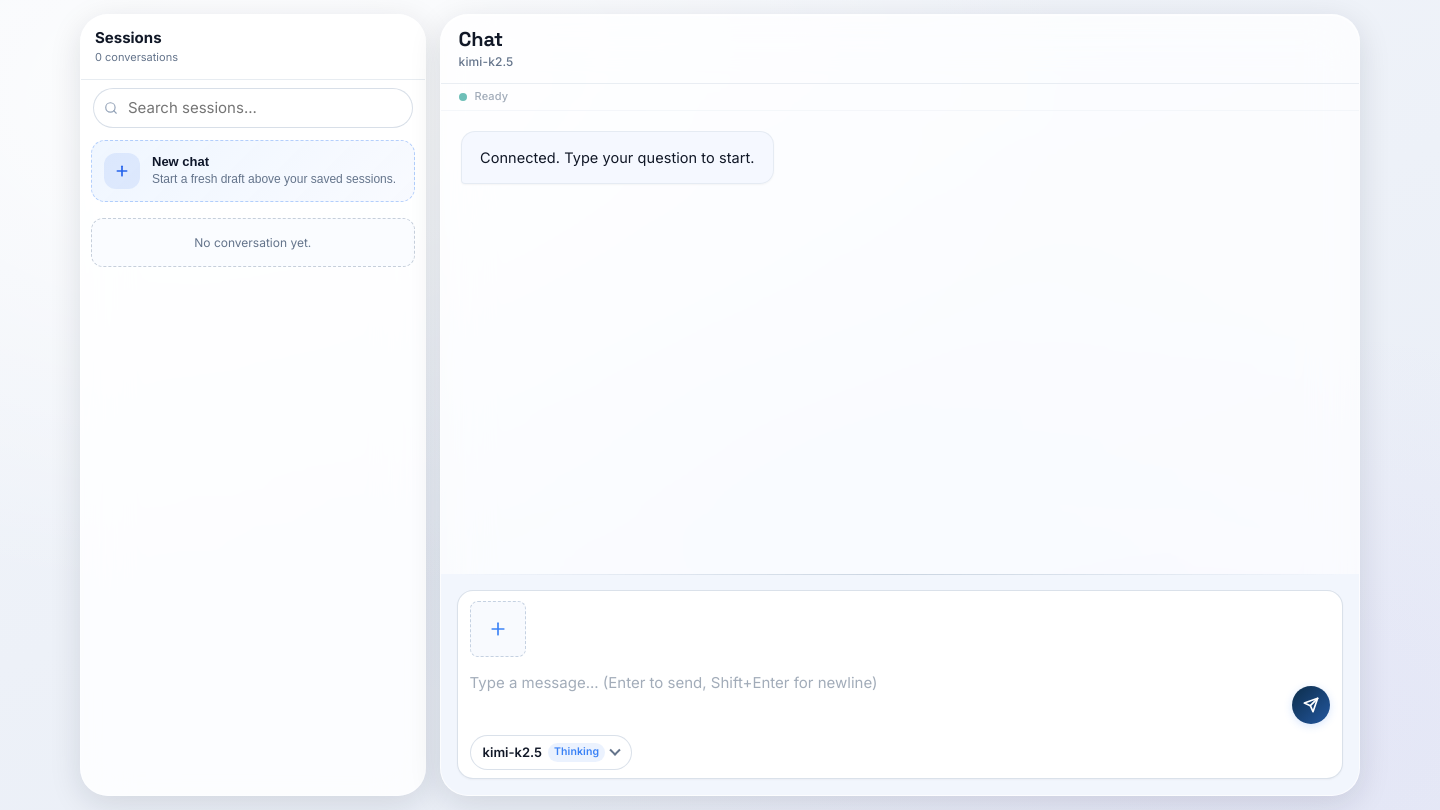
App behavior (session v2) › shows clarification card and option click continues as a normal next turn
In the text box with placeholder "Type a message... (Enter to send, Shift+Enter for newline)": (877, 695) 470,665 -> 1284,725, type "help me deploy"
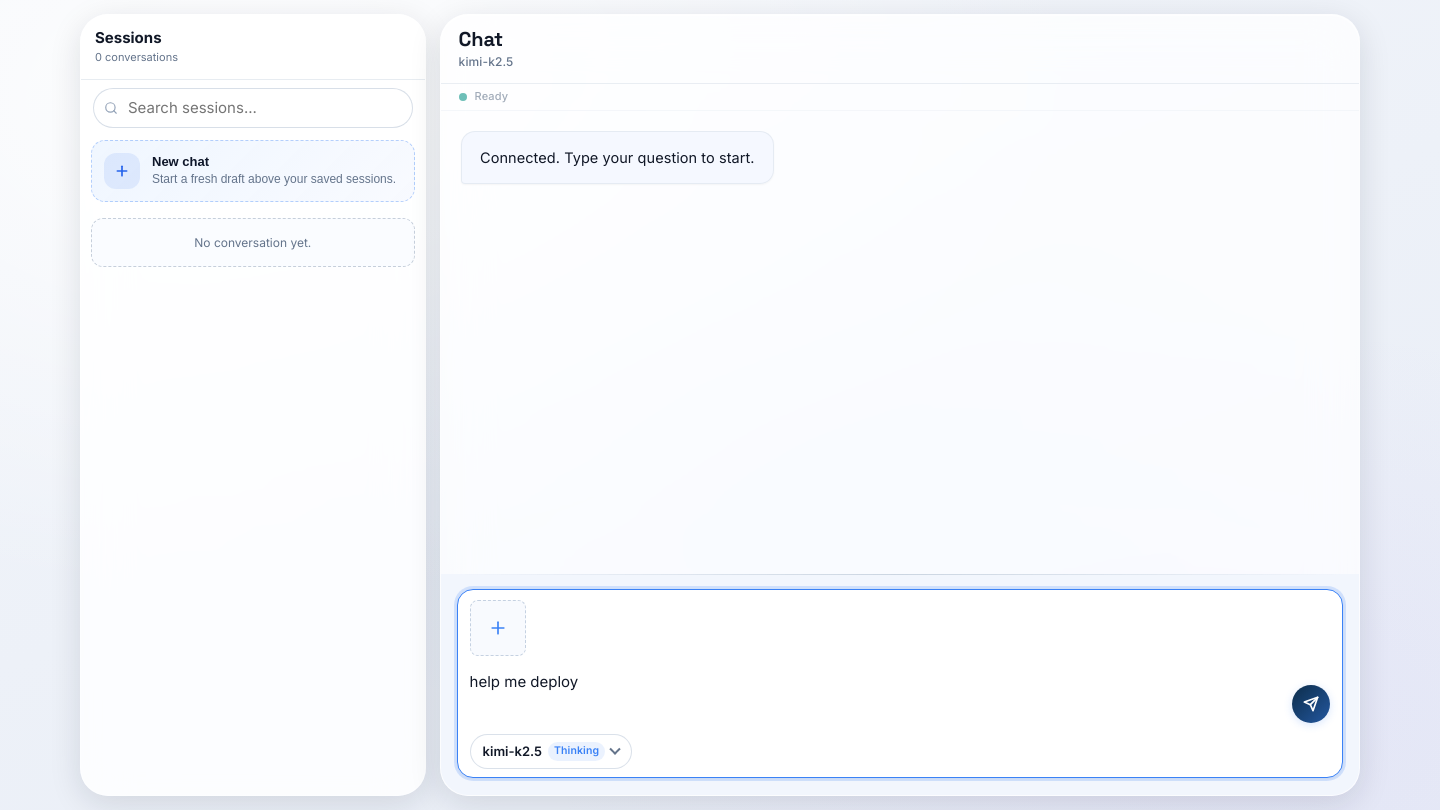
Submit the form with class "composer", box 441,574 -> 1359,795
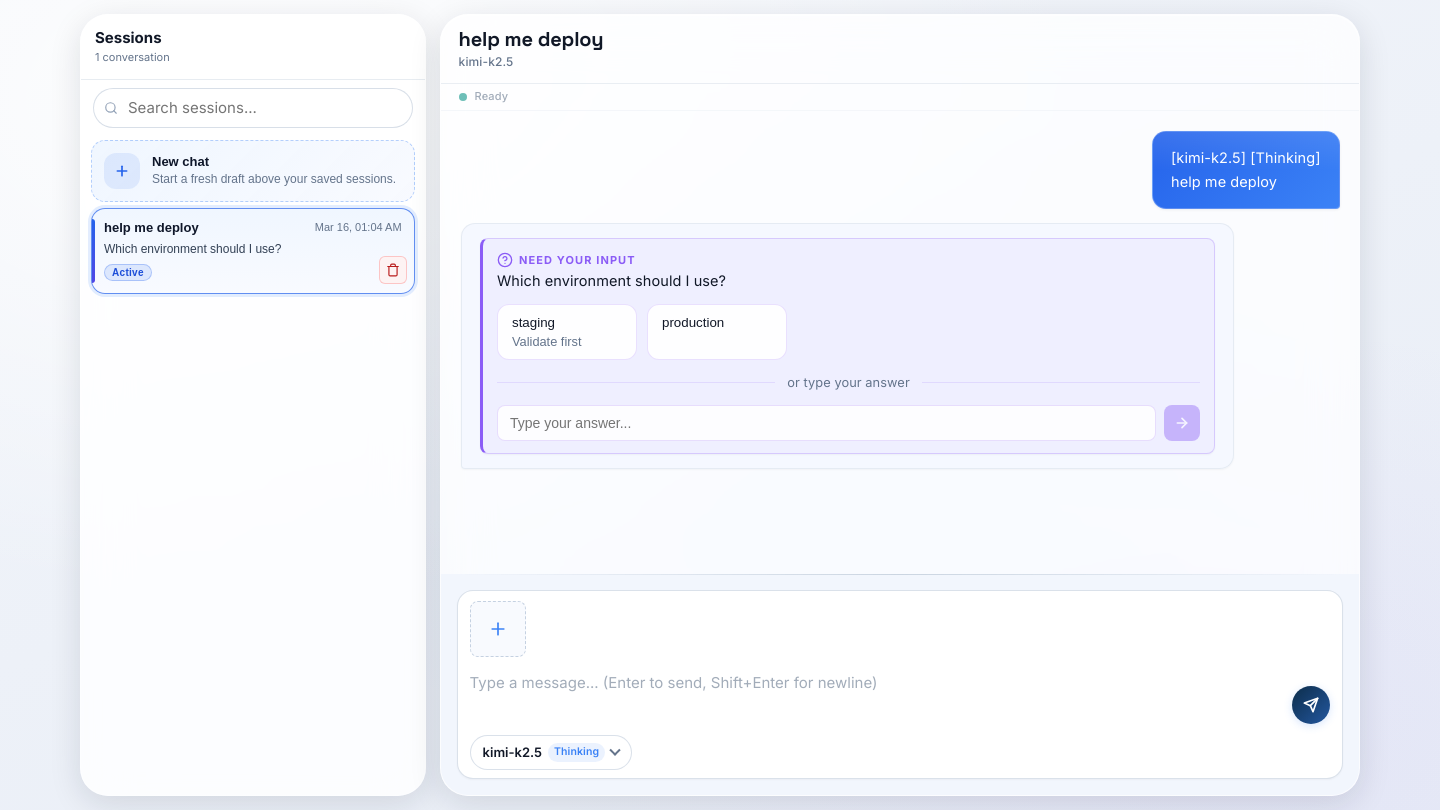
Check: the text "Need Your Input" is shown, box 497,252 -> 635,268
Check: the text "Which environment should I use?" below "Need Your Input" is shown, box 497,272 -> 726,289
Check: the button "staging Validate first" is shown
Click the button "staging Validate first": (567, 332) 497,304 -> 637,360
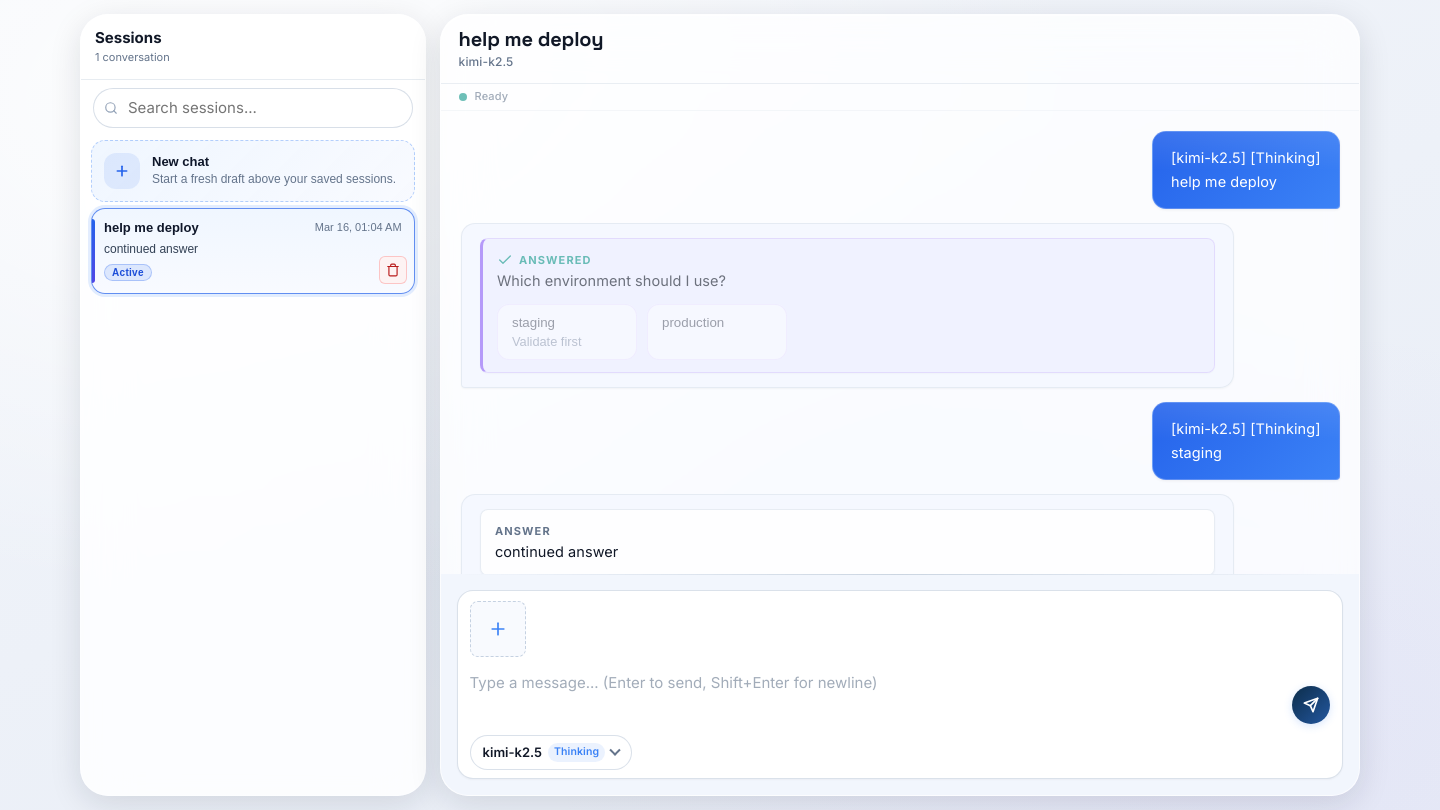
Check: the text "staging" is shown, box 512,315 -> 555,330
Check: the text "continued answer" below "[kimi-k2.5] [Thinking] staging" is shown, box 495,543 -> 618,560
Check: the text "Answered" is shown, box 497,252 -> 591,268
